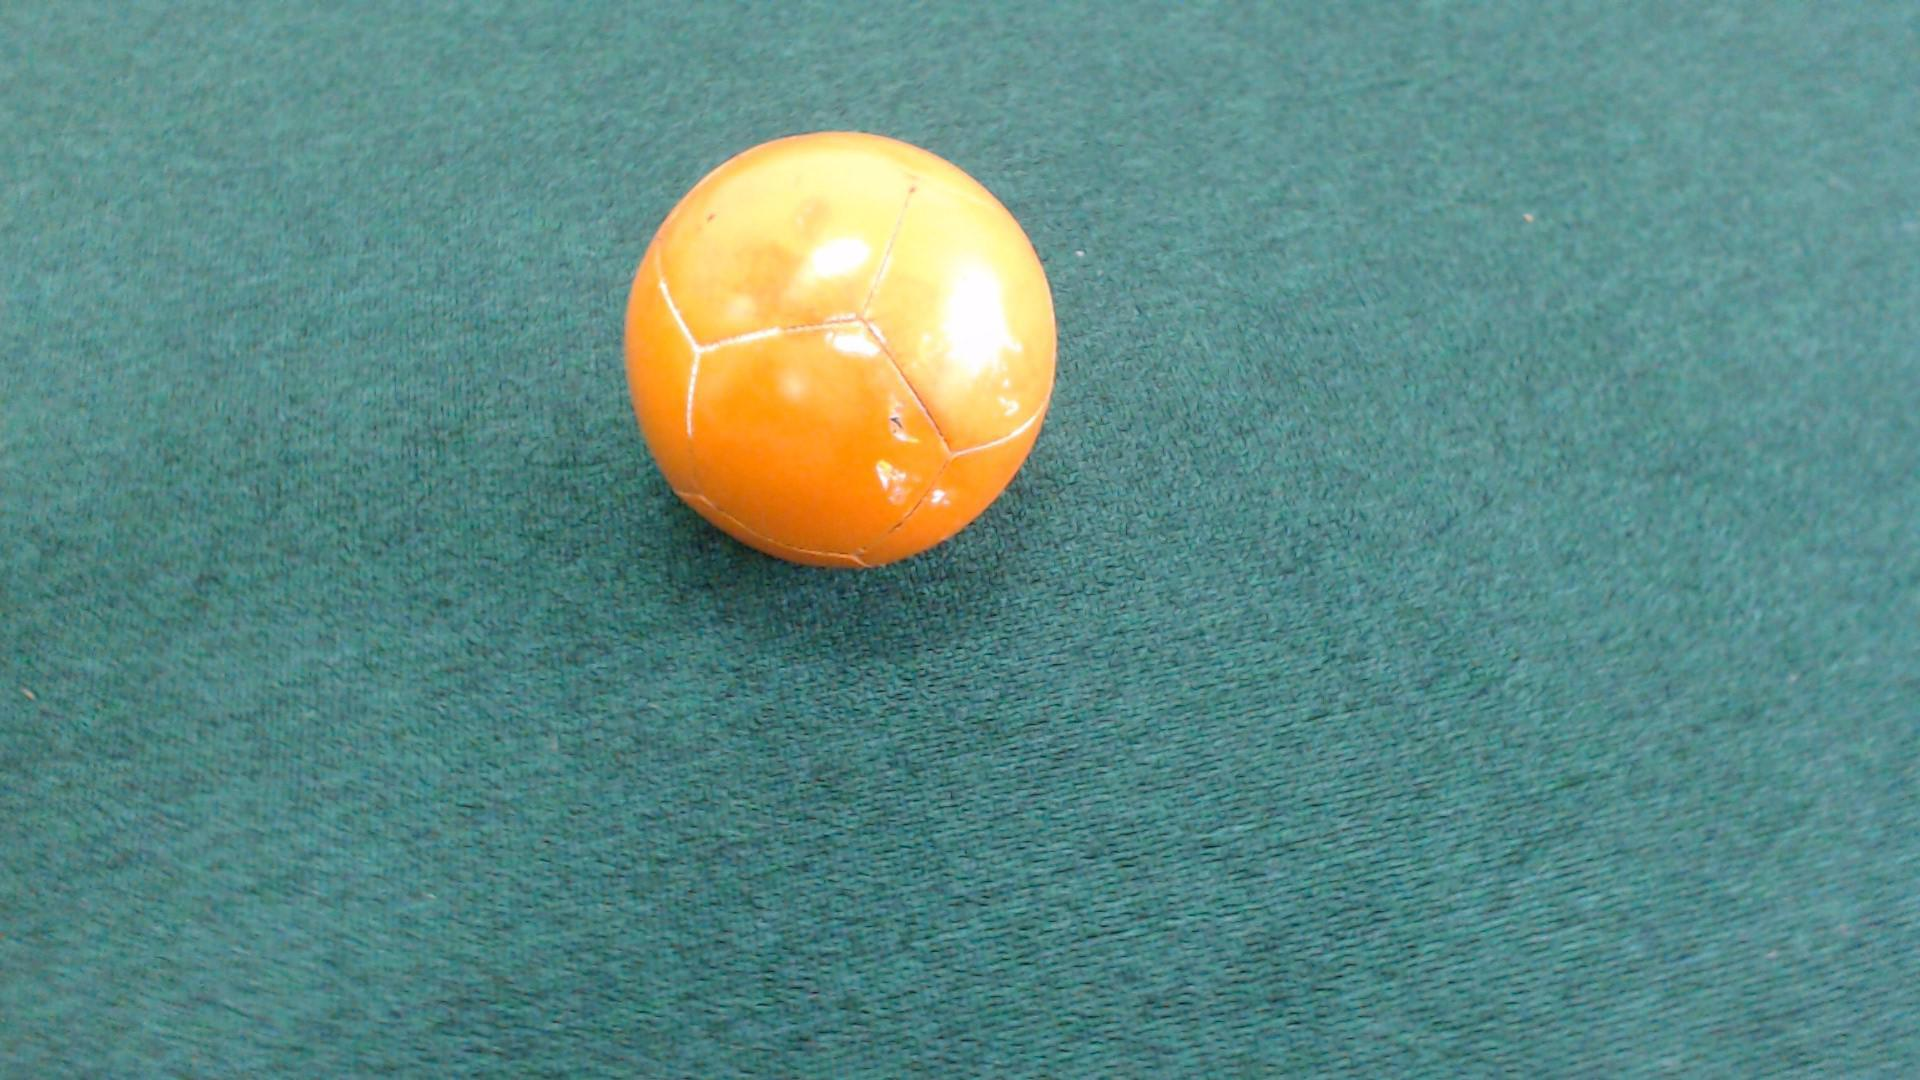bola: (599, 117, 1073, 595)
